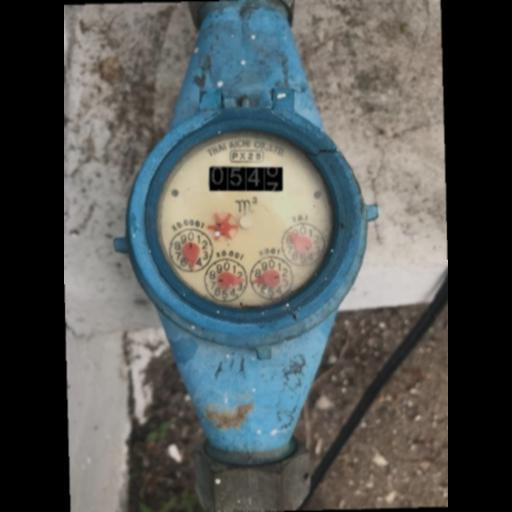0: (209, 167, 227, 191)
4: (245, 167, 263, 191)
5: (229, 167, 246, 191)
6: (264, 167, 282, 191)
border_water_meter_number: (209, 167, 284, 192)
